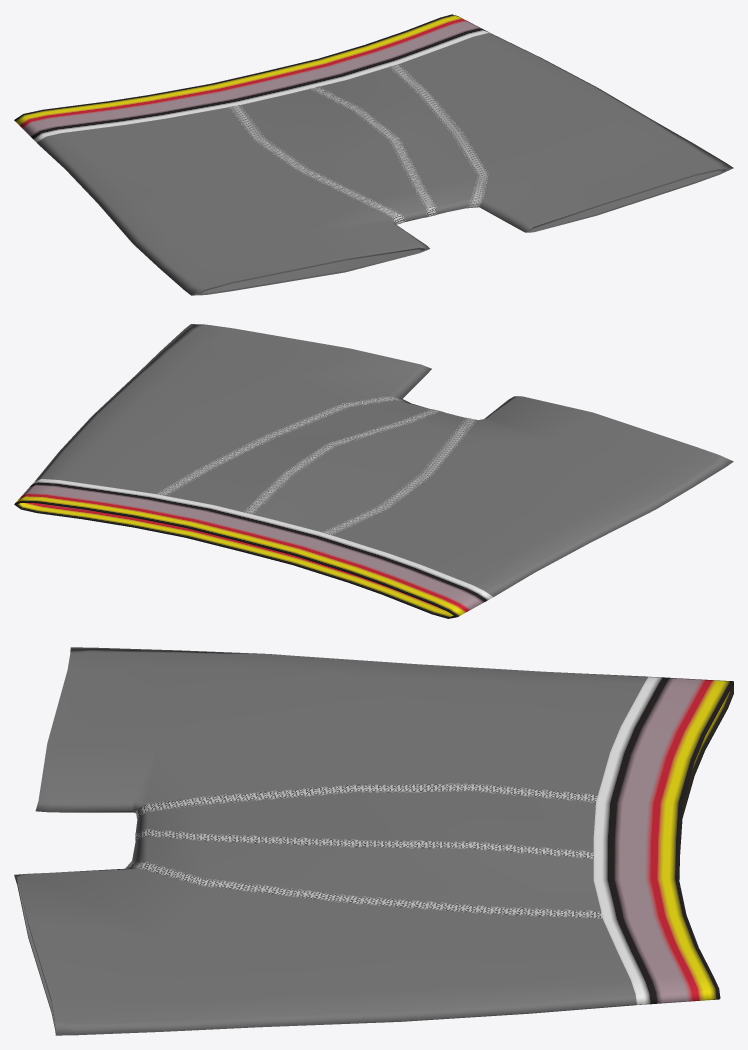
File: calecon.obj
3 views of the same model, one above another, from view 1: azimuth 30°, elevation 25°; view 2: azimuth 150°, elevation 25°; view 3: azimuth 270°, elevation 25° (orthographic). The views are drawn at different scales.
Parts seen in each view (by area): view 1: Plane_Plane.001, belt_Plane.002, seams_Plane.000; view 2: Plane_Plane.001, belt_Plane.002, seams_Plane.000; view 3: Plane_Plane.001, belt_Plane.002, seams_Plane.000.
Part boxes in pixels (x1,y1,x2,y2): Plane_Plane.001: (37, 33, 733, 295); belt_Plane.002: (14, 14, 492, 142); seams_Plane.000: (228, 64, 488, 224); Plane_Plane.001: (35, 324, 733, 596); belt_Plane.002: (14, 479, 493, 618); seams_Plane.000: (156, 395, 477, 535); Plane_Plane.001: (14, 647, 647, 1035); belt_Plane.002: (593, 676, 733, 1005); seams_Plane.000: (125, 783, 602, 918).
Bounding box in the file's own units: 37.21 × 1.38 × 29.17.
